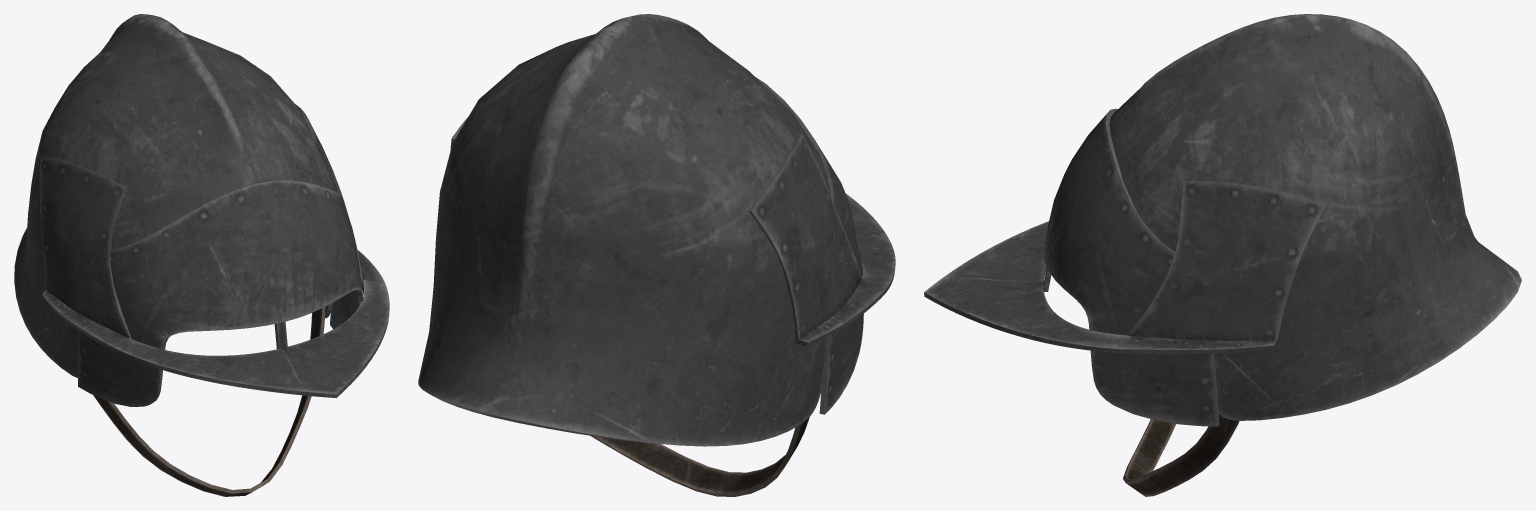
Rendered from sk_uruk_hai_helmet_cross_a4.fbx.
3 renders of one model, left to right at view 1: azimuth 30°, elevation 25°; view 2: azimuth 150°, elevation 25°; view 3: azimuth 270°, elevation 25°, orthographic. The views are drawn at different scales.
Visible parts, largest first — view 1: sk_uruk_hai_helmet_cross_a4.1, sk_uruk_hai_helmet_cross_a4.0; view 2: sk_uruk_hai_helmet_cross_a4.1, sk_uruk_hai_helmet_cross_a4.0; view 3: sk_uruk_hai_helmet_cross_a4.1, sk_uruk_hai_helmet_cross_a4.0.
Boxes of the visible parts, x1=… form: sk_uruk_hai_helmet_cross_a4.1: x1=14, y1=14, x2=389, y2=406; sk_uruk_hai_helmet_cross_a4.0: x1=93, y1=307, x2=325, y2=496; sk_uruk_hai_helmet_cross_a4.1: x1=418, y1=14, x2=895, y2=446; sk_uruk_hai_helmet_cross_a4.0: x1=590, y1=417, x2=809, y2=496; sk_uruk_hai_helmet_cross_a4.1: x1=924, y1=14, x2=1521, y2=426; sk_uruk_hai_helmet_cross_a4.0: x1=1123, y1=414, x2=1239, y2=496.
Bounding box in the file's own units: 0.2266 × 0.3604 × 0.3151.
Materials: 2 (2 with a texture image).
